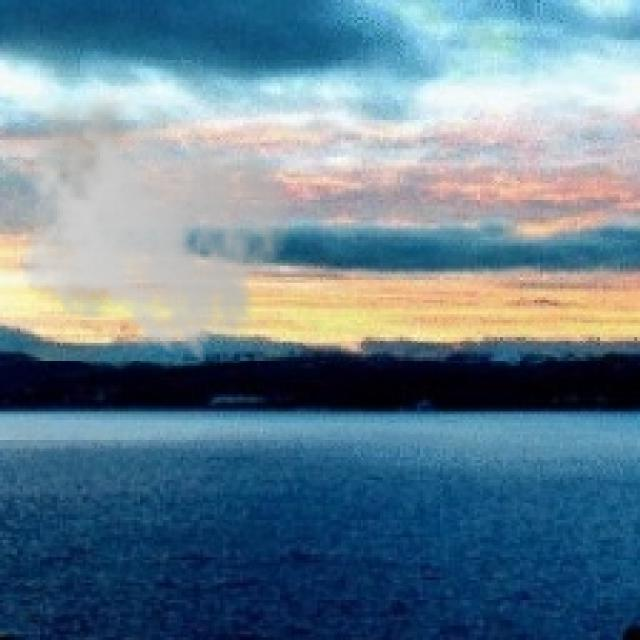smoke: (12, 89, 292, 360)
